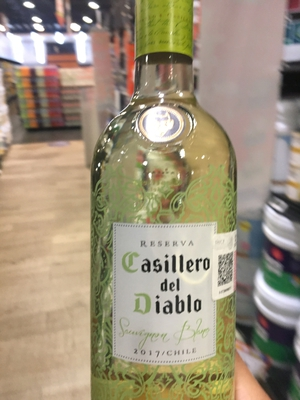casillero del diablo sauvignon blanc: (84, 21, 246, 400)
